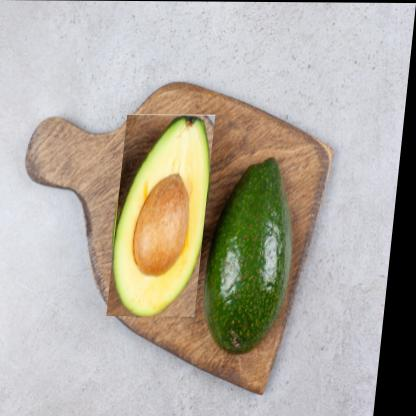avocado: (112, 114, 219, 317)
